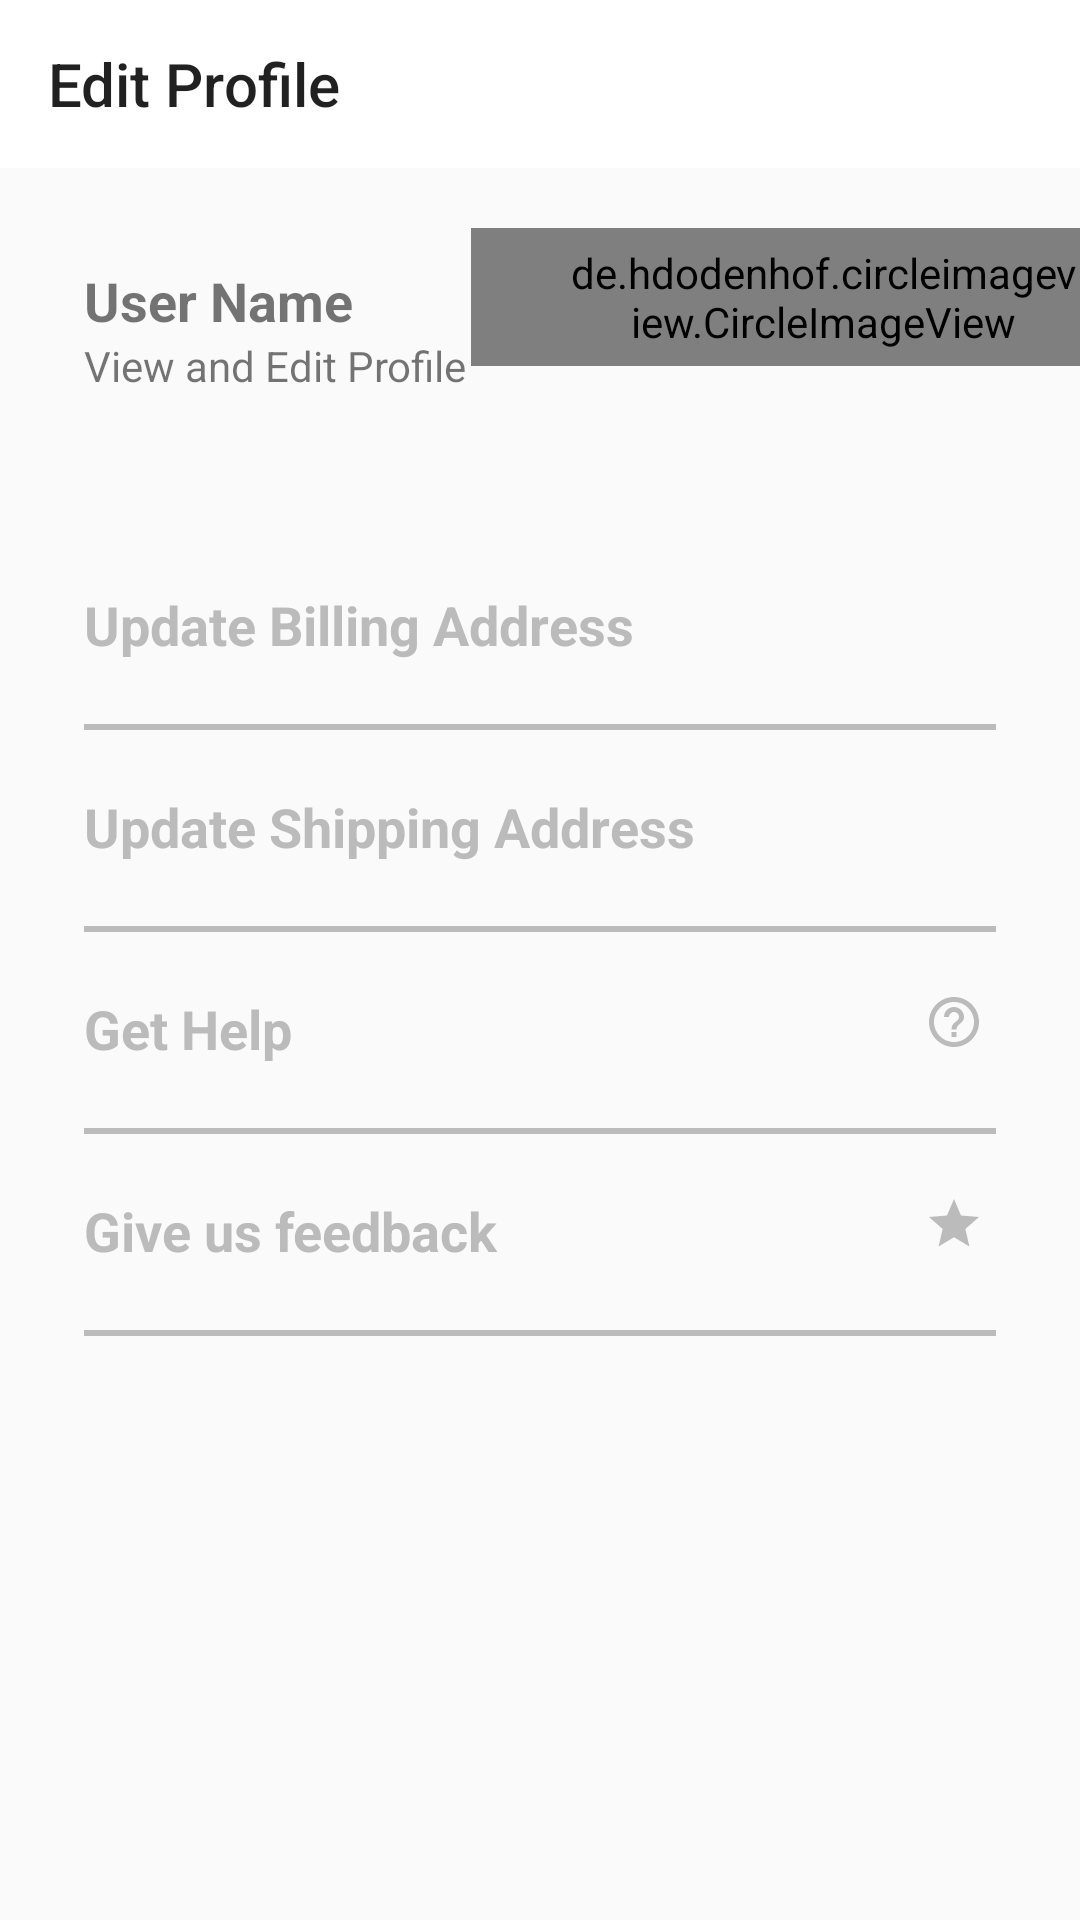

Screen size 1080w x 1920h. Icon name, then its center in pixels as (x=x, y=y):
star: (x=954, y=1223)
